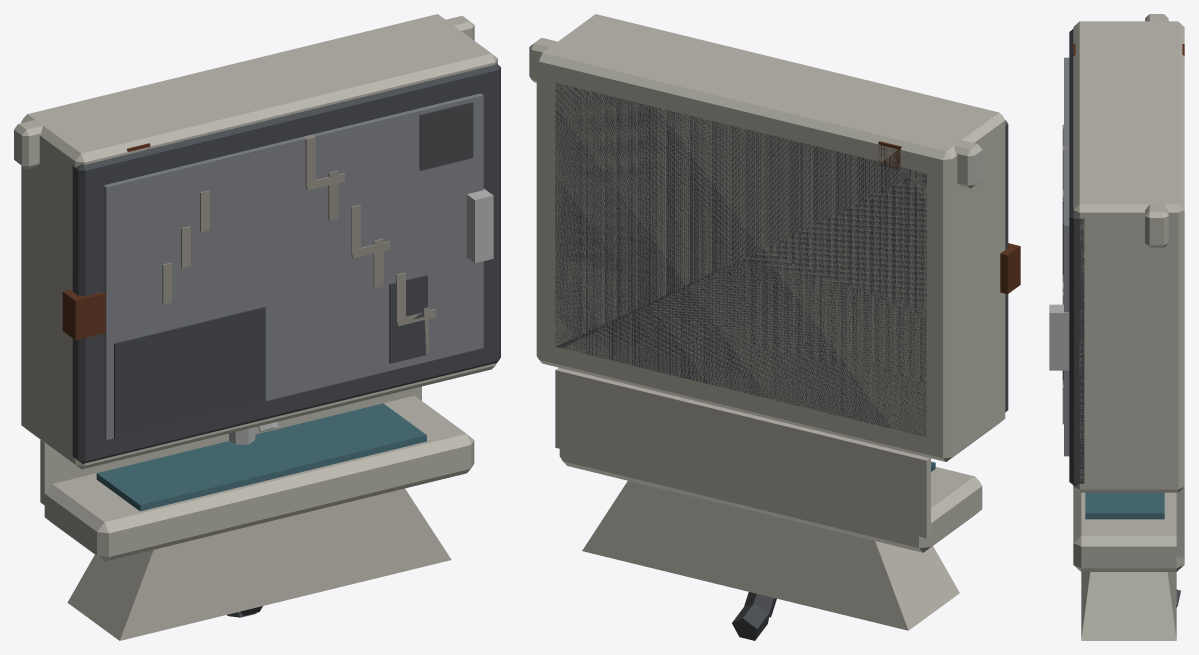
Rendered from furn_medicine_cabinet.fbx.
3 renders of one model, left to right at view 1: azimuth 30°, elevation 25°; view 2: azimuth 150°, elevation 25°; view 3: azimuth 270°, elevation 25°, orthographic. The views are drawn at different scales.
Visible parts, largest first — view 1: Door, furn_medicine_cabinet; view 2: furn_medicine_cabinet, Door; view 3: furn_medicine_cabinet, Door.
Part boxes in pixels (x1=…): Door: x1=62, y1=63, x2=500, y2=463; furn_medicine_cabinet: x1=14, y1=14, x2=497, y2=640; furn_medicine_cabinet: x1=529, y1=14, x2=1005, y2=640; Door: x1=1000, y1=120, x2=1020, y2=412; furn_medicine_cabinet: x1=1073, y1=14, x2=1184, y2=640; Door: x1=1049, y1=29, x2=1084, y2=485.
Bounding box in the file's own units: 0.6 × 0.6938 × 0.17.
